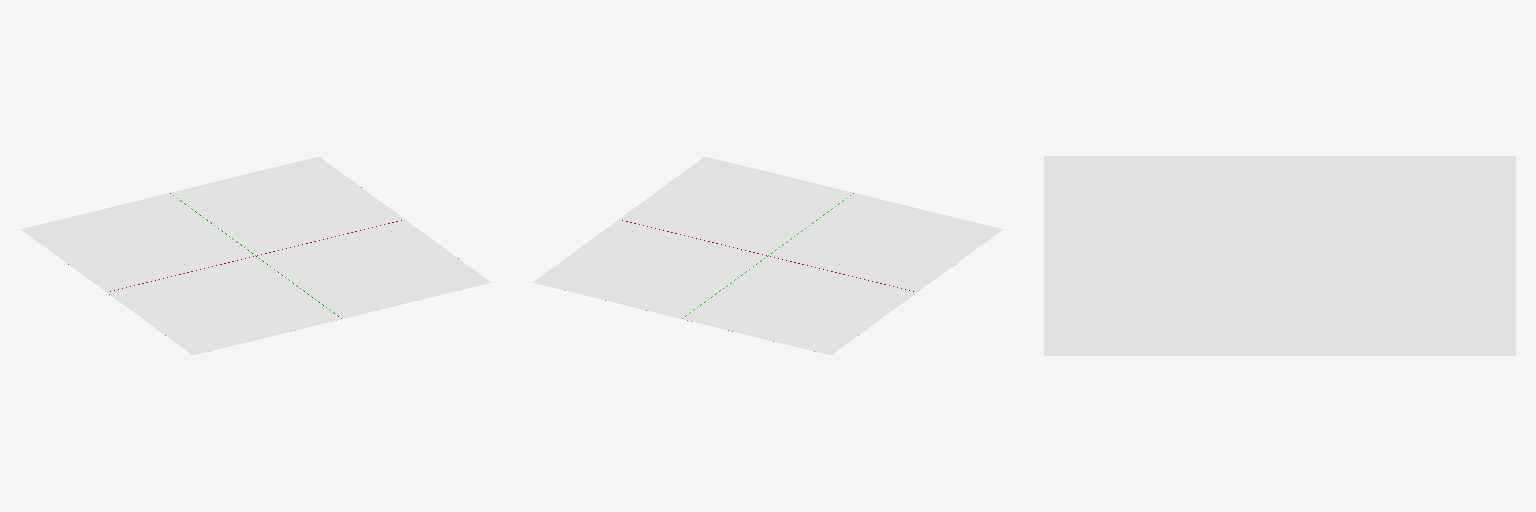
robot.urdf — Arm:
<?xml version='1.0' encoding='UTF-8'?>
<robot name="Arm">
<material name="metal_gray">
	<color rgba="0.7 0.7 0.7 1"/>
</material>
<material name="yellow">       
	<color rgba="0.7 0.7 0  1"/>
</material>  
<material name="white">
	<color rgba="1 1 1 0.5"/>
</material>
<material name="red">
	<color rgba="1 0 0 0.1"/>
</material>
<material name="minus_red">
	<color rgba="1 0 0 0.1"/>
</material>
<material name="green">
	<color rgba="0 1 0 0.1"/>
</material>
<material name="minus_green">
	<color rgba="0 1 0 0.1"/>
</material>
<material name="blue">
	<color rgba="0 0 1 0.1"/>
</material>
<material name="minus_blue">
	<color rgba="0 0 1 0.1"/>
</material>
  <link name="world"/>
  <link name="base_link">
    <inertial>
      <origin xyz="0.0 0.0 0.0" rpy="0.0 0.0 0.0"/>
      <mass value="0.0"/>
      <inertia ixx="0.00" ixy="0.0" ixz="0.0" iyy="0.00" iyz="0.0" izz="0.00"/>
    </inertial>
    <visual>
      <geometry>
        <box size="10 10 0.001"/>
      </geometry>
      <origin xyz="0.0 0.0 -0.0005" rpy="0 0.0 0.0"/>
      <material name="white"/>
    </visual>
   
    <collision>
      <geometry>
        <box size="10 10 0.001"/>
      </geometry>
      <origin xyz="0.0 0.0 0.005" rpy="0 0.0 0.0"/>
    </collision> 
  </link>
  <link name="x_link">
    <inertial>
      <origin xyz="0.0 0.0 0.0" rpy="0.0 0.0 0.0"/>
      <mass value="0.0"/>
      <inertia ixx="0.00" ixy="0.0" ixz="0.0" iyy="0.00" iyz="0.0" izz="0.00"/>
    </inertial>
    <visual>
      <geometry>
        <box size="5 0.01 0.01"/>
      </geometry>
      <origin xyz="2.5 0.0 0" rpy="0 0.0 0.0"/>
      <material name="red"/>
    </visual>
  </link>
  <link name="minus_x_link">
    <inertial>
      <origin xyz="0.0 0.0 0.0" rpy="0.0 0.0 0.0"/>
      <mass value="0.0"/>
      <inertia ixx="0.00" ixy="0.0" ixz="0.0" iyy="0.00" iyz="0.0" izz="0.00"/>
    </inertial>
    <visual>
      <geometry>
        <box size="5 0.01 0.01"/>
      </geometry>
      <origin xyz="-2.5 0.0 0" rpy="0 0.0 0.0"/>
      <material name="minus_red"/>
    </visual>
  </link>  
  <link name="y_link">
    <inertial>
      <origin xyz="0.0 0.0 0.0" rpy="0.0 0.0 0.0"/>
      <mass value="0.0"/>
      <inertia ixx="0.00" ixy="0.0" ixz="0.0" iyy="0.00" iyz="0.0" izz="0.00"/>
    </inertial>
    <visual>
      <geometry>
        <box size="0.01 5 0.01"/>
      </geometry>
      <origin xyz="0.0 2.5 0" rpy="0 0.0 0.0"/>
      <material name="green"/>
    </visual>
  </link>
  <link name="minus_y_link">
    <inertial>
      <origin xyz="0.0 0.0 0.0" rpy="0.0 0.0 0.0"/>
      <mass value="0.0"/>
      <inertia ixx="0.00" ixy="0.0" ixz="0.0" iyy="0.00" iyz="0.0" izz="0.00"/>
    </inertial>
    <visual>
      <geometry>
        <box size="0.01 5 0.01"/>
      </geometry>
      <origin xyz="0.0 -2.5 0" rpy="0 0.0 0.0"/>
      <material name="minus_green"/>
    </visual>
  </link>  
  <link name="z_link">
    <inertial>
      <origin xyz="0.0 0.0 0.0" rpy="0.0 0.0 0.0"/>
      <mass value="0.0"/>
      <inertia ixx="0.00" ixy="0.0" ixz="0.0" iyy="0.00" iyz="0.0" izz="0.00"/>
    </inertial>
    <visual>
      <geometry>
        <box size="0.01 0.01 5"/>
      </geometry>
      <origin xyz="0.0 0.0 2.5" rpy="0 0.0 0.0"/>
      <material name="blue"/>
    </visual>
  </link>  
  <link name="minus_z_link">
    <inertial>
      <origin xyz="0.0 0.0 0.0" rpy="0.0 0.0 0.0"/>
      <mass value="0.0"/>
      <inertia ixx="0.00" ixy="0.0" ixz="0.0" iyy="0.00" iyz="0.0" izz="0.00"/>
    </inertial>
    <visual>
      <geometry>
        <box size="0.01 0.01 5"/>
      </geometry>
      <origin xyz="0.0 0.0 -2.5" rpy="0 0.0 0.0"/>
      <material name="minus_blue"/>
    </visual>
  </link>        
  <joint name="world_joint" type="fixed">
    <parent link="world"/>
    <child link="base_link"/>
    <axis xyz="0. 0. 0."/>
    <origin xyz="0.0 0.0 0.0" rpy="0.0 0.0 0.0"/>
  </joint>
   <joint name="x_joint" type="fixed">
    <parent link="base_link"/>
    <child link="x_link"/>
    <axis xyz="0. 0. 0."/>
    <origin xyz="0.0 0.0 0.0" rpy="0.0 0.0 0.0"/>
  </joint>
   <joint name="minus_x_joint" type="fixed">
    <parent link="base_link"/>
    <child link="minus_x_link"/>
    <axis xyz="0. 0. 0."/>
    <origin xyz="0.0 0.0 0.0" rpy="0.0 0.0 0.0"/>
  </joint>  
   <joint name="y_joint" type="fixed">
    <parent link="base_link"/>
    <child link="y_link"/>
    <axis xyz="0. 0. 0."/>
    <origin xyz="0.0 0.0 0.0" rpy="0.0 0.0 0.0"/>
  </joint>
   <joint name="minus_y_joint" type="fixed">
    <parent link="base_link"/>
    <child link="minus_y_link"/>
    <axis xyz="0. 0. 0."/>
    <origin xyz="0.0 0.0 0.0" rpy="0.0 0.0 0.0"/>
  </joint>  
   <joint name="z_joint" type="fixed">
    <parent link="base_link"/>
    <child link="z_link"/>
    <axis xyz="0. 0. 0."/>
    <origin xyz="0.0 0.0 0.0" rpy="0.0 0.0 0.0"/>
  </joint>    
   <joint name="minus_z_joint" type="fixed">
    <parent link="base_link"/>
    <child link="minus_z_link"/>
    <axis xyz="0. 0. 0."/>
    <origin xyz="0.0 0.0 0.0" rpy="0.0 0.0 0.0"/>
  </joint>      
</robot>

--- Facts derived from the render (not from the file) ---
Views: 3 orthographic renders of the robot side by side, from view 1: azimuth 30°, elevation 25°; view 2: azimuth 150°, elevation 25°; view 3: azimuth 270°, elevation 25°.
Robot: Arm — 8 links, 7 joints (7 fixed); root link world; default pose: all joints at 0.
Links seen in each view (by area): view 1: base_link; view 2: base_link; view 3: base_link.
Boxes of the visible links, <box> form: base_link: <box>21,157,490,354</box>; base_link: <box>533,157,1002,354</box>; base_link: <box>1044,156,1515,355</box>.
Bounding box of the posed robot: 10 × 10 × 10 m (x, y, z).
Geometry: primitives only (box / cylinder / sphere), no mesh files.
